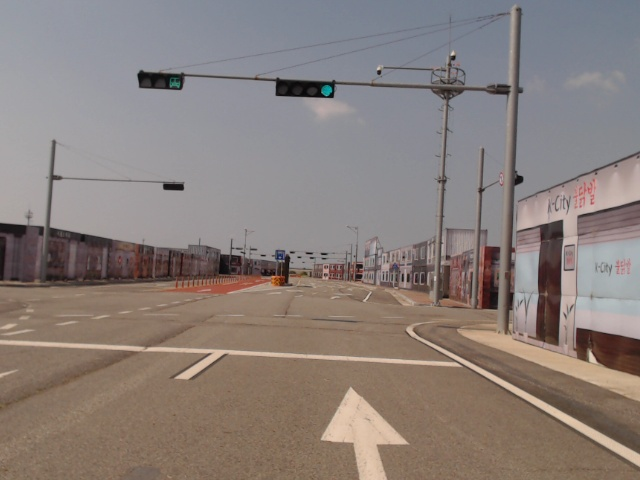straight_green_4: (275, 78, 335, 99)
